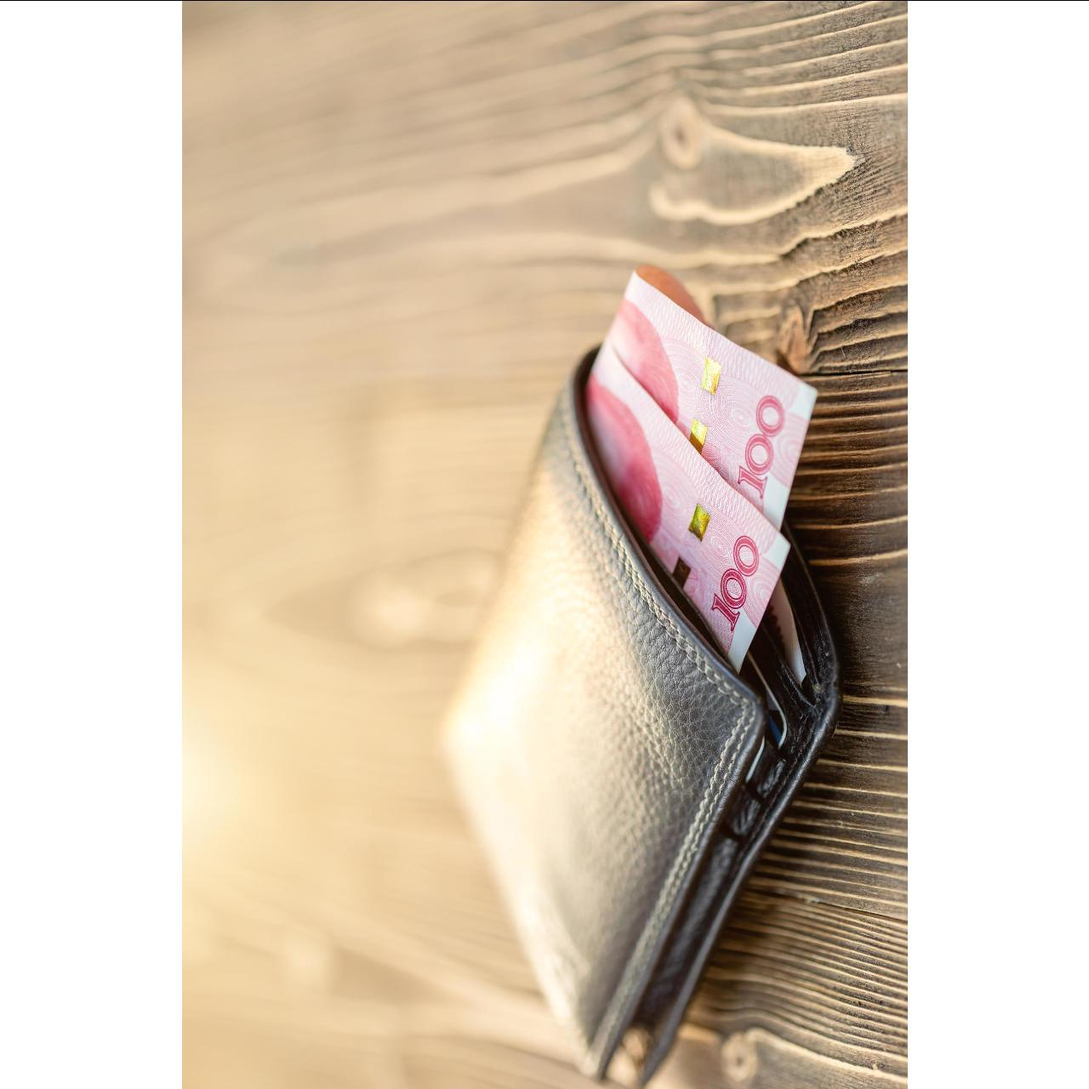wallet: (372, 248, 875, 1082)
